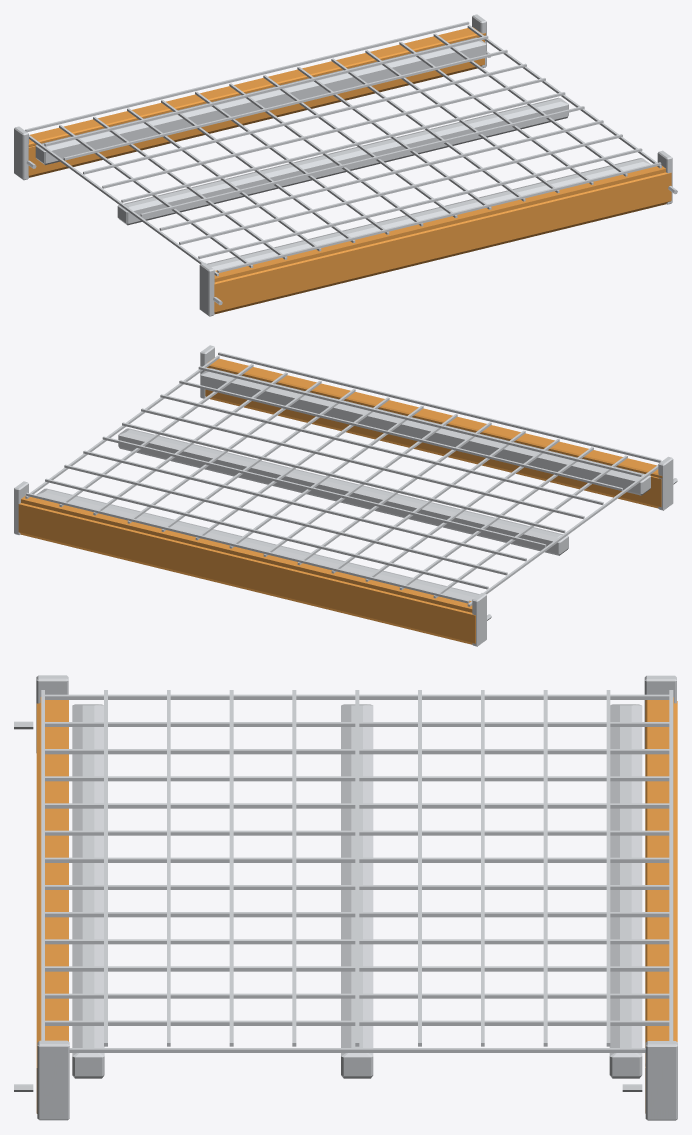
Rendered from pallet-rack-beam-pair-with-wire-mesh-deck.glb.
3 renders of one model, top to bottom at view 1: azimuth 30°, elevation 25°; view 2: azimuth 150°, elevation 25°; view 3: azimuth 270°, elevation 25°, orthographic. The views are drawn at different scales.
Parts seen in each view (by area): view 1: pallet-rack-beam-level-mesh; view 2: pallet-rack-beam-level-mesh; view 3: pallet-rack-beam-level-mesh.
Boxes of the visible parts, <box> form: pallet-rack-beam-level-mesh: <box>14,14,677,316</box>; pallet-rack-beam-level-mesh: <box>14,345,677,646</box>; pallet-rack-beam-level-mesh: <box>14,675,677,1120</box>.
Size of the model in its own units: 1.35 by 0.13 by 1.03.
